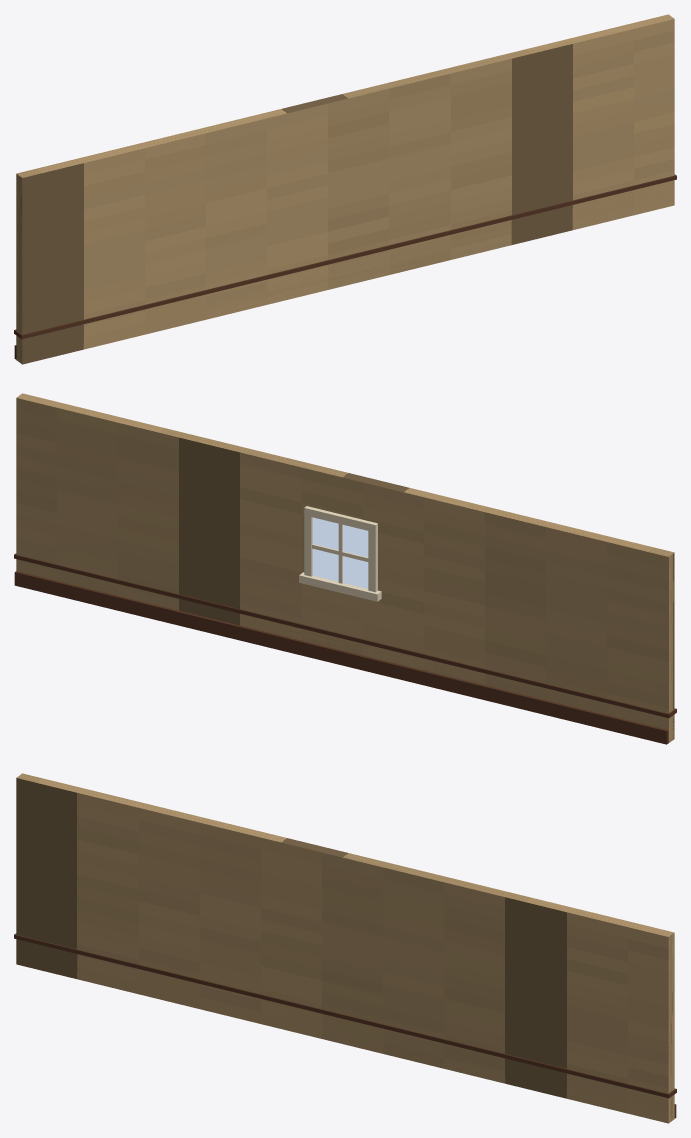
Rendered from wall_s.glb.
The picture shows the model from 3 angles, top to bottom: view 1: azimuth 30°, elevation 25°; view 2: azimuth 150°, elevation 25°; view 3: azimuth 330°, elevation 25°; orthographic projection.
Visible parts, largest first — view 1: Box1, Box10, Box11; view 2: Box1, Box2, Box10, Box11, Box7, Box4, Box3, Box6, Box5; view 3: Box1, Box10, Box11.
Boxes of the visible parts, box(x1,y1,x2,y2) form: Box1: box(16, 14, 674, 364); Box10: box(16, 180, 674, 364); Box11: box(14, 174, 676, 339); Box1: box(16, 393, 674, 742); Box2: box(14, 571, 668, 744); Box10: box(16, 559, 674, 743); Box11: box(14, 553, 676, 718); Box7: box(312, 517, 368, 588); Box4: box(299, 572, 381, 601); Box3: box(304, 506, 377, 532); Box6: box(368, 531, 377, 592); Box5: box(304, 515, 312, 576); Box1: box(16, 773, 674, 1123); Box10: box(16, 939, 674, 1122); Box11: box(14, 933, 676, 1098).
Size of the model in its own units: 9.19 by 2.5 by 0.27.
4 materials, 1 textured.
